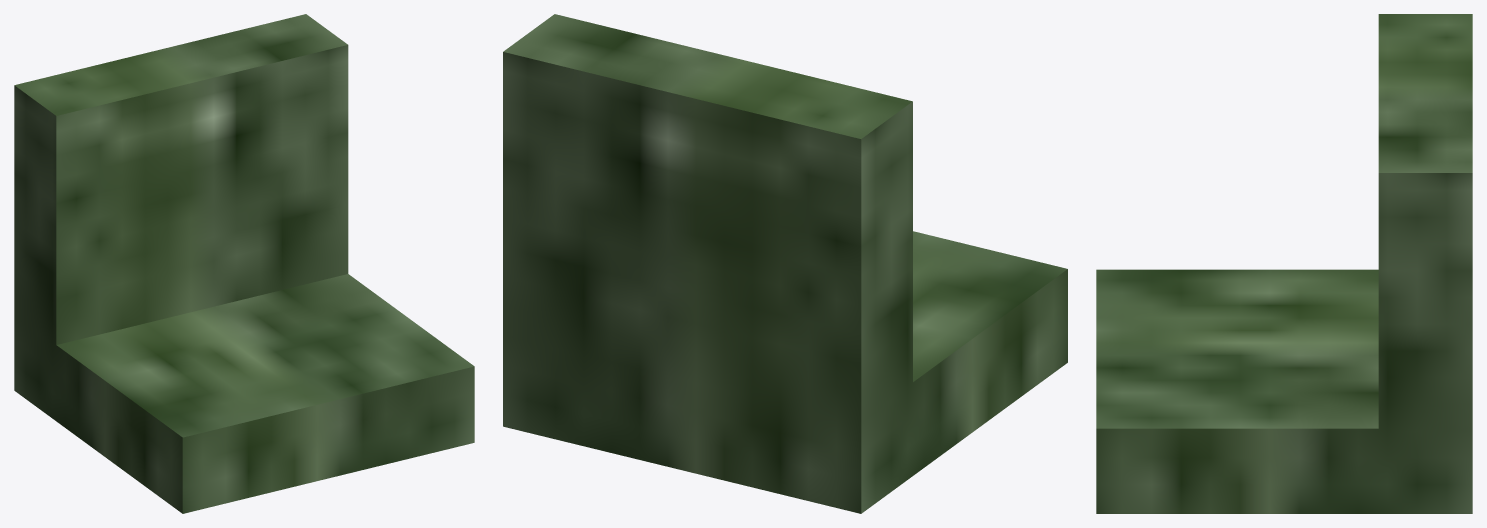
The model's file is level_01.obj.
The picture shows the model from 3 angles, left to right: view 1: azimuth 30°, elevation 25°; view 2: azimuth 150°, elevation 25°; view 3: azimuth 270°, elevation 25°; orthographic projection. The views are drawn at different scales.
Parts seen in each view (by area): view 1: entity0_brush1, entity0_brush0; view 2: entity0_brush1, entity0_brush0; view 3: entity0_brush0, entity0_brush1.
Part boxes in pixels (x1,y1,x2,y2): entity0_brush1: (14, 14, 348, 344); entity0_brush0: (14, 274, 474, 513); entity0_brush1: (503, 14, 912, 419); entity0_brush0: (503, 231, 1067, 513); entity0_brush0: (1096, 269, 1472, 513); entity0_brush1: (1378, 14, 1472, 428).
Size of the model in its own units: 128 by 128 by 128.
